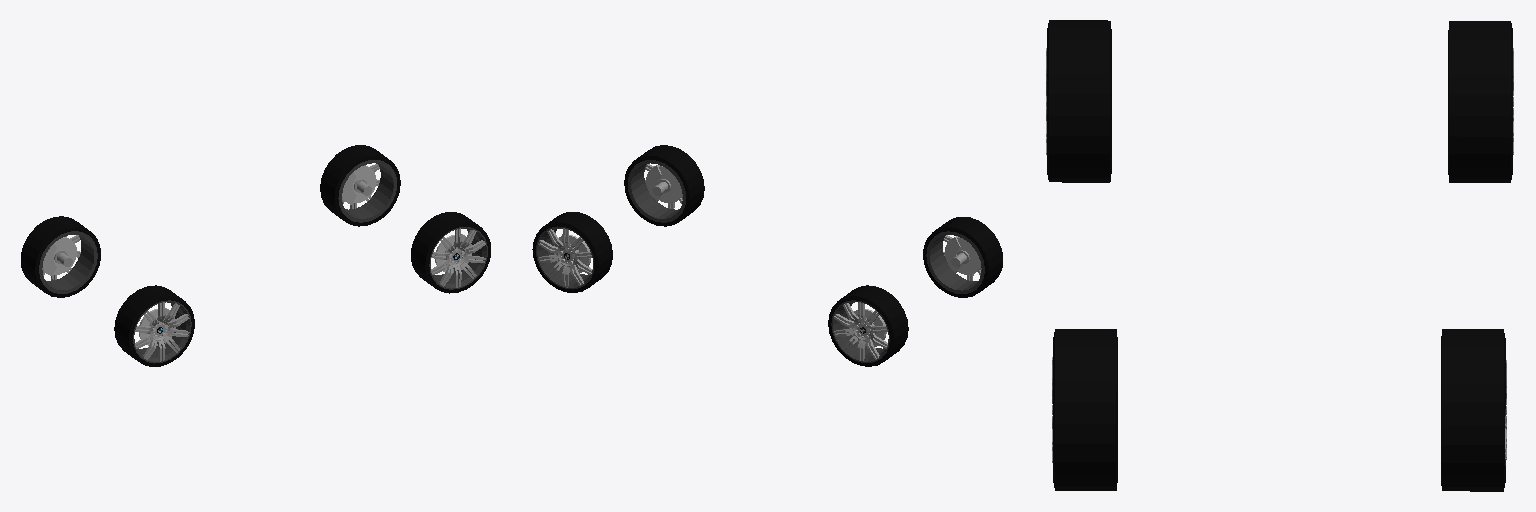
--- What the picture shows (computed from the rendered views, not written in the file) ---
The picture shows the robot from 3 angles, left to right: view 1: azimuth 30°, elevation 25°; view 2: azimuth 150°, elevation 25°; view 3: azimuth 270°, elevation 25°; orthographic projection.
Model bmw with 24 links and 23 joints (7 continuous, 16 fixed), rooted at base_link, posed all joints at 0.
Links seen in each view (by area): view 1: rear_right_wheel, front_left_wheel, rear_left_wheel, front_right_wheel; view 2: front_right_wheel, rear_left_wheel, front_left_wheel, rear_right_wheel; view 3: rear_right_wheel, front_left_wheel, rear_left_wheel, front_right_wheel.
Boxes of the visible links, x1,y1,x2,y2 form: rear_right_wheel: (114,285,194,366); front_left_wheel: (320,145,400,226); rear_left_wheel: (21,216,100,297); front_right_wheel: (411,212,490,293); front_right_wheel: (624,145,704,226); rear_left_wheel: (828,285,908,366); front_left_wheel: (532,212,612,292); rear_right_wheel: (923,217,1002,297); rear_right_wheel: (1046,20,1111,182); front_left_wheel: (1441,329,1506,491); rear_left_wheel: (1448,21,1513,182); front_right_wheel: (1052,329,1117,490).
Bounding box of the posed robot: 3.5 × 1.84 × 0.6375 m (x, y, z).
Meshes: 3 distinct files referenced, 4 mesh visuals loaded (1 Collada DAE); not drawn: 2 (reference not matched to a file when rendering).

robot.urdf — bmw:
<?xml version="1.0"?>
<robot xmlns:xacro="http://ros.org/wiki/xacro" name="bmw">
  <!--- Surface properties must come first? -->
  <gazebo reference="front_left_wheel">
    <mu1>0.9</mu1>
    <mu2>0.9</mu2>
    <minDepth>0.005</minDepth>
    <kp>1e8</kp>
  </gazebo>
  <gazebo reference="front_right_wheel">
    <mu1>0.9</mu1>
    <mu2>0.9</mu2>
    <minDepth>0.005</minDepth>
    <kp>1e8</kp>
  </gazebo>
  <gazebo reference="rear_left_wheel">
    <mu1>0.9</mu1>
    <mu2>0.9</mu2>
    <minDepth>0.005</minDepth>
    <kp>1e8</kp>
  </gazebo>
  <gazebo reference="rear_right_wheel">
    <mu1>0.9</mu1>
    <mu2>0.9</mu2>
    <minDepth>0.005</minDepth>
    <kp>1e8</kp>
  </gazebo>

  <link name="base_link">
    <inertial>
      <mass value="1"/>
      <inertia ixx="0.001" ixy="0.0" ixz="0.0" iyy="0.001" iyz="0.0" izz="0.001"/>
    </inertial>
  </link>
  <joint name="base_link_connection" type="fixed">
    <parent link="base_link"/>
    <child link="chassis"/>
    <origin xyz="1.45 0 0" rpy="0 0 1.57"/>
    <axis xyz="1 0 0"/>
  </joint>

  <link name="chassis">
    <visual>
      <origin xyz="0 -0.10 0" rpy="0 0 0"/>
      <geometry>
        <mesh filename="package://bmw_description/meshes/chassis_gray_3ds.dae" scale="1 1 1"/>
      </geometry>
    </visual>

    <collision name="chassis">
      <origin xyz="0.0 0.05 0.625" rpy="0 0 0"/>
      <geometry>
        <box size="1.7526 2.1 0.95"/>
      </geometry>
    </collision>

    <collision name="front_bumper">
      <origin xyz="0.0 -2.0 0.458488" rpy="0.0 0 0"/>
      <geometry>
        <box size="1.337282 0.48 0.566691"/>
      </geometry>
    </collision>

    <collision name="hood">
      <origin xyz="0.0 -1.900842 0.676305" rpy="0.341247 0 0"/>
      <geometry>
        <box size="1.597968 0.493107 0.265468"/>
      </geometry>
    </collision>

    <collision name="windshield">
      <origin xyz="0.0 -0.875105 1.032268" rpy="0.335476 0 0"/>
      <geometry>
        <box size="1.168381 1.654253 0.272347"/>
      </geometry>
    </collision>

    <collision name="top_front">
      <origin xyz="0.0 0.161236 1.386042" rpy="0.135030 0 0"/>
      <geometry>
        <box size="1.279154 0.625988 0.171868"/>
      </geometry>
    </collision>

    <collision name="top_rear">
      <origin xyz="0.0 0.817696 1.360069" rpy="-0.068997 0 0"/>
      <geometry>
        <box size="1.285130 0.771189 0.226557"/>
      </geometry>
    </collision>

    <collision name="rear_window">
      <origin xyz="0.0 1.640531 1.175126" rpy="-0.262017 0 0"/>
      <geometry>
        <box size="1.267845 1.116344 0.244286"/>
      </geometry>
    </collision>

    <collision name="trunk">
      <origin xyz="0.0 1.637059 0.888180" rpy="0.0 0 0"/>
      <geometry>
        <box size="1.788064 1.138988 0.482746"/>
      </geometry>
    </collision>

    <collision name="back_bumper">
      <origin xyz="0.0 2.054454 0.577870" rpy="0.0 0 0"/>
      <geometry>
        <box size="1.781650 0.512093 0.581427"/>
      </geometry>
    </collision>

    <inertial>
      <mass value="1356.0"/>
      <origin xyz="0 0 0.48" rpy="0 0 1.5708"/>
      <inertia ixx="2581.13354740" ixy="0.0" ixz="0.0" iyy="591.30846112" iyz="0.0" izz="2681.95008628"/>
    </inertial>
  </link>
  <link name="fl_axle">
    <inertial>
      <mass value="1"/>
      <origin xyz="0 0 0"/>
      <inertia ixx="0.004" ixy="0.0" ixz="0.0" iyy="0.004" iyz="0.0" izz="0.004"/>
    </inertial>
  </link>
  <link name="fr_axle">
    <inertial>
      <mass value="1"/>
      <origin xyz="0 0 0"/>
      <inertia ixx="0.004" ixy="0.0" ixz="0.0" iyy="0.004" iyz="0.0" izz="0.004"/>
    </inertial>
  </link>
  <link name="front_left_wheel">
    <inertial>
      <mass value="11"/>
      <origin xyz="0 0 0"/>
      <inertia ixx="0.58631238" ixy="0.0" ixz="0.0" iyy="0.33552910" iyz="0.0" izz="0.33552910"/>
    </inertial>
    <collision name="front_left_wheel_collision">
      <geometry>
        <sphere radius="0.33"/>
      </geometry>
    </collision>
    <visual>
      <origin xyz="0 0.205 -0.38" rpy="0 0 3.141"/>
      <geometry>
        <mesh filename="package://bmw_description/meshes/right_rear_gray.dae" scale="1 1 1"/>
      </geometry>
    </visual>
  </link>
  <link name="front_right_wheel">
    <inertial>
      <mass value="11"/>
      <origin xyz="0 0 0"/>
      <inertia ixx="0.58631238" ixy="0.0" ixz="0.0" iyy="0.33552910" iyz="0.0" izz="0.33552910"/>
    </inertial>
    <collision name="front_right_wheel_collision">
      <geometry>
        <sphere radius="0.33"/>
      </geometry>
    </collision>
    <visual>
      <origin xyz="0 -0.205 -0.38" rpy="0 0 0"/>
      <geometry>
        <mesh filename="package://bmw_description/meshes/right_rear_gray.dae" scale="1 1 1"/>
      </geometry>
    </visual>
  </link>
  <link name="rear_left_wheel">
    <inertial>
      <mass value="11"/>
      <origin xyz="0 0 0"/>
      <inertia ixx="0.58631238" ixy="0.0" ixz="0.0" iyy="0.33552910" iyz="0.0" izz="0.33552910"/>
    </inertial>
    <collision name="rear_left_wheel_collision">
      <geometry>
        <sphere radius="0.33"/>
      </geometry>
    </collision>
    <visual>
      <origin xyz="0 0.205 -0.38" rpy="0 0 3.141"/>
      <geometry>
        <mesh filename="package://bmw_description/meshes/right_rear_gray.dae" scale="1 1 1"/>
      </geometry>
    </visual>
  </link>
  <link name="rear_right_wheel">
    <inertial>
      <mass value="11"/>
      <origin xyz="0 0 0"/>
      <inertia ixx="0.58631238" ixy="0.0" ixz="0.0" iyy="0.33552910" iyz="0.0" izz="0.33552910"/>
    </inertial>
    <collision name="rear_right_wheel_collision">
      <geometry>
        <sphere radius="0.33"/>
      </geometry>
    </collision>
    <visual>
      <origin xyz="0 -0.205 -0.38" rpy="0 0 0"/>
      <geometry>
        <mesh filename="package://bmw_description/meshes/right_rear_gray.dae" scale="1 1 1"/>
      </geometry>
    </visual>
  </link>
  <link name="steering_wheel">
    <inertial>
      <mass value="1.0"/>
      <inertia ixx="0.14583300" ixy="0.0" ixz="0.0" iyy="0.14583300" iyz="0.0" izz="0.125"/>
    </inertial>
    <visual>
      <origin xyz="0 0 0" rpy="1.302101 0 0"/>
      <geometry>
        <mesh filename="package://prius_description/meshes/steering_wheel.obj" scale="0.01 0.01 0.01"/>
      </geometry>
    </visual>
  </link>

  <joint name="steering_joint" type="continuous">
    <origin xyz="0.4 -0.27 0.72" rpy="-1.302101 0 0"/>
    <parent link="chassis"/>
    <child link="steering_wheel"/>
    <axis xyz="0 0 1"/>
    <limit lower="-7.85" upper="7.85" effort="10000000" velocity="1000000"/>
  </joint>

  <joint name="front_left_steer_joint" type="continuous">
    <parent link="chassis"/>
    <child link="fl_axle"/>
    <origin xyz="0.767 -1.41 0.2" rpy="0 0 0"/>
    <axis xyz="0 0 1"/>
    <limit lower="-0.8727" upper="0.8727" effort="10000000" velocity="1000000"/>
  </joint>
  <joint name="front_right_steer_joint" type="continuous">
    <parent link="chassis"/>
    <child link="fr_axle"/>
    <origin xyz="-0.767 -1.41 0.2" rpy="0 0 0"/>
    <axis xyz="0 0 1"/>
    <limit lower="-0.8727" upper="0.8727" effort="10000000" velocity="1000000"/>
  </joint>
  <joint name="front_left_wheel_joint" type="continuous">
    <parent link="fl_axle"/>
    <child link="front_left_wheel"/>
    <origin xyz="0 0 0" rpy="0 0 0"/>
    <axis xyz="1 0 0"/>
  </joint>
  <joint name="front_right_wheel_joint" type="continuous">
    <parent link="fr_axle"/>
    <child link="front_right_wheel"/>
    <origin xyz="0 0 0" rpy="0 0 0"/>
    <axis xyz="1 0 0"/>
  </joint>
  <joint name="rear_left_wheel_joint" type="continuous">
    <parent link="chassis"/>
    <child link="rear_left_wheel"/>
    <origin xyz="0.793 1.45 0.2" rpy="0 0 0"/>
    <axis xyz="1 0 0"/>
  </joint>
  <joint name="rear_right_wheel_joint" type="continuous">
    <parent link="chassis"/>
    <child link="rear_right_wheel"/>
    <origin xyz="-0.793 1.45 0.2" rpy="0 0 0"/>
    <axis xyz="1 0 0"/>
  </joint>


  <!-- Sensor links and fixed joints -->
  <link name="center_laser_link">
    <inertial>
      <mass value="1"/>
      <inertia ixx="0.001" ixy="0.0" ixz="0.0" iyy="0.001" iyz="0.0" izz="0.001"/>
    </inertial>
  </link>
  <joint name="center_laser_joint" type="fixed">
    <parent link="chassis"/>
    <child link="center_laser_link"/>
    <origin xyz="0 0.4 1.8" rpy="0 0 -1.5707"/>
  </joint>

  <link name="front_left_laser_link">
    <inertial>
      <mass value="1"/>
      <inertia ixx="0.001" ixy="0.0" ixz="0.0" iyy="0.001" iyz="0.0" izz="0.001"/>
    </inertial>
  </link>
  <joint name="front_left_laser_joint" type="fixed">
    <parent link="chassis"/>
    <child link="front_left_laser_link"/>
    <origin xyz="1 -2.3 0.5" rpy="0 0.0 0"/>
  </joint>

  <link name="front_right_laser_link">
    <inertial>
      <mass value="1"/>
      <inertia ixx="0.001" ixy="0.0" ixz="0.0" iyy="0.001" iyz="0.0" izz="0.001"/>
    </inertial>
  </link>
  <joint name="front_right_laser_joint" type="fixed">
    <parent link="chassis"/>
    <child link="front_right_laser_link"/>
    <origin xyz="-1 -2.3 0.5" rpy="0 0.0 3.14"/>
  </joint>

  <gazebo reference="base_link_connection">
    <disableFixedJointLumping>true</disableFixedJointLumping>
  </gazebo>

  <link name="front_camera_link">
    <inertial>
      <mass value="1"/>
      <inertia ixx="0.001" ixy="0.0" ixz="0.0" iyy="0.001" iyz="0.0" izz="0.001"/>
    </inertial>
  </link>
  <joint name="front_camera_joint" type="fixed">
    <parent link="chassis"/>
    <child link="front_camera_link"/>
    <origin xyz="0 -0.4 1.4" rpy="0 0.05 -1.5707"/>
  </joint>

  <link name="back_camera_link">
    <inertial>
      <mass value="1"/>
      <inertia ixx="0.001" ixy="0.0" ixz="0.0" iyy="0.001" iyz="0.0" izz="0.001"/>
    </inertial>
  </link>
  <joint name="back_camera_joint" type="fixed">
    <parent link="chassis"/>
    <child link="back_camera_link"/>
    <origin xyz="0 1.45 1.4" rpy="0 0.05 1.5707"/>
  </joint>

  <link name="left_camera_link">
    <inertial>
      <mass value="1"/>
      <inertia ixx="0.001" ixy="0.0" ixz="0.0" iyy="0.001" iyz="0.0" izz="0.001"/>
    </inertial>
  </link>
  <joint name="left_camera_joint" type="fixed">
    <parent link="chassis"/>
    <child link="left_camera_link"/>
    <origin xyz="1 -0.7 1.0" rpy="0 0.05 1.0"/>
  </joint>

  <link name="right_camera_link">
    <inertial>
      <mass value="1"/>
      <inertia ixx="0.001" ixy="0.0" ixz="0.0" iyy="0.001" iyz="0.0" izz="0.001"/>
    </inertial>
  </link>
  <joint name="right_camera_joint" type="fixed">
    <parent link="chassis"/>
    <child link="right_camera_link"/>
    <origin xyz="-1 -0.7 1.0" rpy="0 0.05 2.1416"/>
  </joint>

  <link name="back_left_far_sonar_link">
    <inertial>
      <mass value="1"/>
      <inertia ixx="0.001" ixy="0.0" ixz="0.0" iyy="0.001" iyz="0.0" izz="0.001"/>
    </inertial>
  </link>
  <joint name="back_left_far_sonar_joint" type="fixed">
    <parent link="chassis"/>
    <child link="back_left_far_sonar_link"/>
    <origin xyz="0.7 2.4 0.5" rpy="0 0 1.5707"/>
  </joint>

  <link name="back_left_middle_sonar_link">
    <inertial>
      <mass value="1"/>
      <inertia ixx="0.001" ixy="0.0" ixz="0.0" iyy="0.001" iyz="0.0" izz="0.001"/>
    </inertial>
  </link>
  <joint name="back_left_middle_sonar_joint" type="fixed">
    <parent link="chassis"/>
    <child link="back_left_middle_sonar_link"/>
    <origin xyz="0.24 2.4 0.5" rpy="0 0 1.5707"/>
  </joint>

  <link name="back_right_far_sonar_link">
    <inertial>
      <mass value="1"/>
      <inertia ixx="0.001" ixy="0.0" ixz="0.0" iyy="0.001" iyz="0.0" izz="0.001"/>
    </inertial>
  </link>
  <joint name="back_right_far_sonar_joint" type="fixed">
    <parent link="chassis"/>
    <child link="back_right_far_sonar_link"/>
    <origin xyz="-0.7 2.4 0.5" rpy="0 0 1.5707"/>
  </joint>

  <link name="back_right_middle_sonar_link">
    <inertial>
      <mass value="1"/>
      <inertia ixx="0.001" ixy="0.0" ixz="0.0" iyy="0.001" iyz="0.0" izz="0.001"/>
    </inertial>
  </link>
  <joint name="back_right_middle_sonar_joint" type="fixed">
    <parent link="chassis"/>
    <child link="back_right_middle_sonar_link"/>
    <origin xyz="-0.24 2.4 0.5" rpy="0 0 1.5707"/>
  </joint>

  <link name="front_left_far_sonar_link">
    <inertial>
      <mass value="1"/>
      <inertia ixx="0.001" ixy="0.0" ixz="0.0" iyy="0.001" iyz="0.0" izz="0.001"/>
    </inertial>
  </link>
  <joint name="front_left_far_sonar_joint" type="fixed">
    <parent link="chassis"/>
    <child link="front_left_far_sonar_link"/>
    <origin xyz="0.7 -2.1 0.5" rpy="0 0 -1.5707"/>
  </joint>

  <link name="front_left_middle_sonar_link">
    <inertial>
      <mass value="1"/>
      <inertia ixx="0.001" ixy="0.0" ixz="0.0" iyy="0.001" iyz="0.0" izz="0.001"/>
    </inertial>
  </link>
  <joint name="front_left_middle_sonar_joint" type="fixed">
    <parent link="chassis"/>
    <child link="front_left_middle_sonar_link"/>
    <origin xyz="0.24 -2.3 0.5" rpy="0 0 -1.5707"/>
  </joint>

  <link name="front_right_far_sonar_link">
    <inertial>
      <mass value="1"/>
      <inertia ixx="0.001" ixy="0.0" ixz="0.0" iyy="0.001" iyz="0.0" izz="0.001"/>
    </inertial>
  </link>
  <joint name="front_right_far_sonar_joint" type="fixed">
    <parent link="chassis"/>
    <child link="front_right_far_sonar_link"/>
    <origin xyz="-0.7 -2.1 0.5" rpy="0 0 -1.5707"/>
  </joint>

  <link name="front_right_middle_sonar_link">
    <inertial>
      <mass value="1"/>
      <inertia ixx="0.001" ixy="0.0" ixz="0.0" iyy="0.001" iyz="0.0" izz="0.001"/>
    </inertial>
  </link>
  <joint name="front_right_middle_sonar_joint" type="fixed">
    <parent link="chassis"/>
    <child link="front_right_middle_sonar_link"/>
    <origin xyz="-0.24 -2.3 0.5" rpy="0 0 -1.5707"/>
  </joint>

  <gazebo>
    <plugin name="pruis_hybrid_drive" filename="libPriusHybridPlugin.so">
      <chassis>chassis</chassis>
      <front_left_wheel>front_left_wheel_joint</front_left_wheel>
      <front_right_wheel>front_right_wheel_joint</front_right_wheel>
      <front_left_wheel_steering>front_left_steer_joint</front_left_wheel_steering>
      <front_right_wheel_steering>front_right_steer_joint</front_right_wheel_steering>
      <back_left_wheel>rear_left_wheel_joint</back_left_wheel>
      <back_right_wheel>rear_right_wheel_joint</back_right_wheel>
      <steering_wheel>steering_joint</steering_wheel>
      <chassis_aero_force_gain>0.63045</chassis_aero_force_gain>
      <front_torque>859.4004393000001</front_torque>
      <back_torque>0</back_torque>
      <front_brake_torque>1031.28052716</front_brake_torque>
      <back_brake_torque>687.5203514400001</back_brake_torque>
      <max_speed>37.998337013956565</max_speed>
      <min_gas_flow>8.981854013171626e-05</min_gas_flow>
      <gas_efficiency>0.371</gas_efficiency>
      <battery_charge_watt_hours>291</battery_charge_watt_hours>
      <battery_discharge_watt_hours>214</battery_discharge_watt_hours>
      <max_steer>0.6458</max_steer>
      <flwheel_steering_p_gain>1e4</flwheel_steering_p_gain>
      <frwheel_steering_p_gain>1e4</frwheel_steering_p_gain>
      <flwheel_steering_i_gain>0</flwheel_steering_i_gain>
      <frwheel_steering_i_gain>0</frwheel_steering_i_gain>
      <flwheel_steering_d_gain>3e2</flwheel_steering_d_gain>
      <frwheel_steering_d_gain>3e2</frwheel_steering_d_gain>
    </plugin>
  </gazebo>

  <gazebo>
    <plugin name="joint_state_publisher" filename="libgazebo_ros_joint_state_publisher.so">
      <!-- <robotNamespace>/prius</robotNamespace> -->
      <jointName>rear_right_wheel_joint, rear_left_wheel_joint, front_right_wheel_joint, front_left_wheel_joint, front_right_steer_joint, front_left_steer_joint, steering_joint</jointName>
      <updateRate>100.0</updateRate>
      <alwaysOn>true</alwaysOn>
    </plugin>
  </gazebo>

  <gazebo>
    <plugin name="p3d" filename="libgazebo_ros_p3d.so">
      <!-- <robotNamespace>/prius</robotNamespace> -->
      <bodyName>base_link</bodyName>
      <topicName>base_pose_ground_truth</topicName>
      <frameName>map</frameName>
      <updateRate>100.0</updateRate>
    </plugin>
  </gazebo>

  <gazebo reference="center_laser_link">
    <sensor name='center_laser_sensor' type='ray'>
      <ray>
        <scan>
          <horizontal>
            <samples>512</samples>
            <resolution>1</resolution>
            <min_angle>-3.14</min_angle>
            <max_angle>3.14</max_angle>
          </horizontal>
          <vertical>
            <samples>16</samples>
            <min_angle>0.0</min_angle>   <!--let it see further in front-->
            <max_angle>-0.35</max_angle>
          </vertical>
        </scan>
        <range>
          <min>0.2</min>
          <max>50</max>
          <resolution>0.01</resolution>
        </range>
      </ray>
      <plugin name='center_laser' filename='libgazebo_ros_block_laser.so'>
        <topicName>/prius/center_laser/scan</topicName>
        <frameName>center_laser_link</frameName>
      </plugin>
      <always_on>1</always_on>
      <update_rate>30</update_rate>
      <visualize>0</visualize>
    </sensor>
  </gazebo>

  <gazebo reference="front_left_laser_link">
    <sensor name='front_left_laser_sensor' type='ray'>
      <ray>
        <scan>
          <horizontal>
            <samples>640</samples>
            <resolution>1</resolution>
            <min_angle>-2.26889</min_angle>
            <max_angle>2.2689</max_angle>
          </horizontal>
          <vertical>
            <samples>1</samples>
            <min_angle>0</min_angle>
            <max_angle>0</max_angle>
          </vertical>
        </scan>
        <range>
          <min>0.2</min>
          <max>30</max>
          <resolution>0.01</resolution>
        </range>
      </ray>
      <plugin name='front_left_laser' filename='libgazebo_ros_laser.so'>
        <topicName>/prius/front_left_laser/scan</topicName>
        <frameName>front_left_laser_link</frameName>
      </plugin>
      <always_on>1</always_on>
      <update_rate>30</update_rate>
      <visualize>0</visualize>
    </sensor>
  </gazebo>

  <gazebo reference="front_right_laser_link">
    <sensor name='front_right_laser_sensor' type='ray'>
      <ray>
        <scan>
          <horizontal>
            <samples>640</samples>
            <resolution>1</resolution>
            <min_angle>-2.26889</min_angle>
            <max_angle>2.2689</max_angle>
          </horizontal>
          <vertical>
            <samples>1</samples>
            <min_angle>0</min_angle>
            <max_angle>0</max_angle>
          </vertical>
        </scan>
        <range>
          <min>0.2</min>
          <max>30</max>
          <resolution>0.01</resolution>
        </range>
      </ray>
      <plugin name='front_right_laser' filename='libgazebo_ros_laser.so'>
        <topicName>/prius/front_right_laser/scan</topicName>
        <frameName>front_right_laser_link</frameName>
      </plugin>
      <always_on>1</always_on>
      <update_rate>30</update_rate>
      <visualize>0</visualize>
    </sensor>
  </gazebo>

  <gazebo reference="front_camera_link">
    <sensor type="camera" name="front_camera_sensor">
      <update_rate>30.0</update_rate>
      <camera name="front_camera">
        <horizontal_fov>1.3962634</horizontal_fov>
        <image>
          <width>800</width>
          <height>800</height>
          <format>R8G8B8</format>
        </image>
        <clip>
          <near>0.02</near>
          <far>300</far>
        </clip>
        <noise>
          <type>gaussian</type>
          <mean>0.0</mean>
          <stddev>0.007</stddev>
        </noise>
      </camera>
      <plugin name="front_camera_controller" filename="libgazebo_ros_camera.so">
        <alwaysOn>false</alwaysOn>
        <updateRate>0.0</updateRate>
        <cameraName>/prius/front_camera</cameraName>
        <imageTopicName>image_raw</imageTopicName>
        <cameraInfoTopicName>/prius/front_camera_info</cameraInfoTopicName>
        <frameName>camera_link</frameName>
        <hackBaseline>0.07</hackBaseline>
        <distortionK1>0.0</distortionK1>
        <distortionK2>0.0</distortionK2>
        <distortionK3>0.0</distortionK3>
        <distortionT1>0.0</distortionT1>
        <distortionT2>0.0</distortionT2>
      </plugin>
    </sensor>
  </gazebo>

  <gazebo reference="back_camera_link">
    <sensor type="camera" name="back_camera_sensor">
      <update_rate>30.0</update_rate>
      <camera name="back_camera">
        <horizontal_fov>1.3962634</horizontal_fov>
        <image>
          <width>800</width>
          <height>800</height>
          <format>R8G8B8</format>
        </image>
        <clip>
          <near>0.02</near>
          <far>300</far>
        </clip>
        <noise>
          <type>gaussian</type>
          <mean>0.0</mean>
          <stddev>0.007</stddev>
        </noise>
      </camera>
      <plugin name="back_camera_controller" filename="libgazebo_ros_camera.so">
        <alwaysOn>false</alwaysOn>
        <updateRate>0.0</updateRate>
        <cameraName>/prius/back_camera</cameraName>
        <imageTopicName>image_raw</imageTopicName>
        <cameraInfoTopicName>/prius/back_camera_info</cameraInfoTopicName>
        <frameName>camera_link</frameName>
        <hackBaseline>0.07</hackBaseline>
        <distortionK1>0.0</distortionK1>
        <distortionK2>0.0</distortionK2>
        <distortionK3>0.0</distortionK3>
        <distortionT1>0.0</distortionT1>
        <distortionT2>0.0</distortionT2>
      </plugin>
    </sensor>
  </gazebo>

  <gazebo reference="left_camera_link">
    <sensor type="camera" name="left_camera_sensor">
      <update_rate>30.0</update_rate>
      <camera name="left_camera">
        <horizontal_fov>1.3962634</horizontal_fov>
        <image>
          <width>800</width>
          <height>800</height>
          <format>R8G8B8</format>
        </image>
        <clip>
          <near>0.02</near>
          <far>300</far>
        </clip>
        <noise>
          <type>gaussian</type>
          <mean>0.0</mean>
          <stddev>0.007</stddev>
        </noise>
      </camera>
      <plugin name="left_camera_controller" filename="libgazebo_ros_camera.so">
        <alwaysOn>false</alwaysOn>
        <updateRate>0.0</updateRate>
        <cameraName>/prius/left_camera</cameraName>
        <imageTopicName>image_raw</imageTopicName>
        <cameraInfoTopicName>/prius/left_camera_info</cameraInfoTopicName>
        <frameName>camera_link</frameName>
        <hackBaseline>0.07</hackBaseline>
        <distortionK1>0.0</distortionK1>
        <distortionK2>0.0</distortionK2>
        <distortionK3>0.0</distortionK3>
        <distortionT1>0.0</distortionT1>
        <distortionT2>0.0</distortionT2>
      </plugin>
    </sensor>
  </gazebo>

  <gazebo reference="right_camera_link">
    <sensor type="camera" name="right_camera_sensor">
      <update_rate>30.0</update_rate>
      <camera name="right_camera">
        <horizontal_fov>1.3962634</horizontal_fov>
        <image>
          <width>800</width>
          <height>800</height>
          <format>R8G8B8</format>
        </image>
        <clip>
          <near>0.02</near>
          <far>300</far>
        </clip>
        <noise>
          <type>gaussian</type>
          <mean>0.0</mean>
          <stddev>0.007</stddev>
        </noise>
      </camera>
      <plugin name="right_camera_controller" filename="libgazebo_ros_camera.so">
        <alwaysOn>false</alwaysOn>
        <updateRate>0.0</updateRate>
        <cameraName>/prius/right_camera</cameraName>
        <imageTopicName>image_raw</imageTopicName>
        <cameraInfoTopicName>/prius/right_camera_info</cameraInfoTopicName>
        <frameName>camera_link</frameName>
        <hackBaseline>0.07</hackBaseline>
        <distortionK1>0.0</distortionK1>
        <distortionK2>0.0</distortionK2>
        <distortionK3>0.0</distortionK3>
        <distortionT1>0.0</distortionT1>
        <distortionT2>0.0</distortionT2>
      </plugin>
    </sensor>
  </gazebo>


  <gazebo reference="back_left_far_sonar_link">
    <sensor name='back_left_far_sonar_sensor' type='ray'>
      <ray>
        <scan>
          <horizontal>
            <samples>1</samples>
            <resolution>1</resolution>
            <min_angle>0</min_angle>
            <max_angle>0</max_angle>
          </horizontal>
          <vertical>
            <samples>1</samples>
            <min_angle>0</min_angle>
            <max_angle>0</max_angle>
          </vertical>
        </scan>
        <range>
          <min>0.2</min>
          <max>5</max>
          <resolution>0.1</resolution>
        </range>
      </ray>
      <plugin name='back_left_far_sonar_sensor' filename='libgazebo_ros_range.so'>
        <topicName>/prius/back_sonar/left_far_range</topicName>
        <frameName>back_left_far_sonar_link</frameName>
      </plugin>
      <always_on>false</always_on>
      <update_rate>5</update_rate>
      <visualize>0</visualize>
    </sensor>
  </gazebo>

  <gazebo reference="back_left_middle_sonar_link">
    <sensor name='back_left_middle_sonar_sensor' type='ray'>
      <ray>
        <scan>
          <horizontal>
            <samples>1</samples>
            <resolution>1</resolution>
            <min_angle>0</min_angle>
            <max_angle>0</max_angle>
          </horizontal>
          <vertical>
            <samples>1</samples>
            <min_angle>0</min_angle>
            <max_angle>0</max_angle>
          </vertical>
        </scan>
        <range>
          <min>0.2</min>
          <max>5</max>
          <resolution>0.1</resolution>
        </range>
      </ray>
      <plugin name='back_left_middle_sonar_sensor' filename='libgazebo_ros_range.so'>
        <topicName>/prius/back_sonar/left_middle_range</topicName>
        <frameName>back_left_middle_sonar_link</frameName>
      </plugin>
      <always_on>false</always_on>
      <update_rate>5</update_rate>
      <visualize>0</visualize>
    </sensor>
  </gazebo>

  <gazebo reference="back_right_far_sonar_link">
    <sensor name='back_right_far_sonar_sensor' type='ray'>
      <ray>
        <scan>
          <horizontal>
            <samples>1</samples>
            <resolution>1</resolution>
            <min_angle>0</min_angle>
            <max_angle>0</max_angle>
          </horizontal>
          <vertical>
            <samples>1</samples>
            <min_angle>0</min_angle>
            <max_angle>0</max_angle>
          </vertical>
        </scan>
        <range>
          <min>0.2</min>
          <max>5</max>
          <resolution>0.1</resolution>
        </range>
      </ray>
      <plugin name='back_right_far_sonar_sensor' filename='libgazebo_ros_range.so'>
        <topicName>/prius/back_sonar/right_far_range</topicName>
        <frameName>back_right_far_sonar_link</frameName>
      </plugin>
      <always_on>false</always_on>
      <update_rate>5</update_rate>
      <visualize>0</visualize>
    </sensor>
  </gazebo>

  <gazebo reference="back_right_middle_sonar_link">
    <sensor name='back_right_middle_sonar_sensor' type='ray'>
      <ray>
        <scan>
          <horizontal>
            <samples>1</samples>
            <resolution>1</resolution>
            <min_angle>0</min_angle>
            <max_angle>0</max_angle>
          </horizontal>
          <vertical>
            <samples>1</samples>
            <min_angle>0</min_angle>
            <max_angle>0</max_angle>
          </vertical>
        </scan>
        <range>
          <min>0.2</min>
          <max>5</max>
          <resolution>0.1</resolution>
        </range>
      </ray>
      <plugin name='back_right_middle_sonar_sensor' filename='libgazebo_ros_range.so'>
        <topicName>/prius/back_sonar/right_middle_range</topicName>
        <frameName>back_right_middle_sonar_link</frameName>
      </plugin>
      <always_on>false</always_on>
      <update_rate>5</update_rate>
      <visualize>0</visualize>
    </sensor>
  </gazebo>

  <gazebo reference="front_left_far_sonar_link">
    <sensor name='front_left_far_sonar_sensor' type='ray'>
      <ray>
        <scan>
          <horizontal>
            <samples>1</samples>
            <resolution>1</resolution>
            <min_angle>0</min_angle>
            <max_angle>0</max_angle>
          </horizontal>
          <vertical>
            <samples>1</samples>
            <min_angle>0</min_angle>
            <max_angle>0</max_angle>
          </vertical>
        </scan>
        <range>
          <min>0.2</min>
          <max>5</max>
          <resolution>0.1</resolution>
        </range>
      </ray>
      <plugin name='front_left_far_sonar_sensor' filename='libgazebo_ros_range.so'>
        <topicName>/prius/front_sonar/left_far_range</topicName>
        <frameName>front_left_far_sonar_link</frameName>
      </plugin>
      <always_on>false</always_on>
      <update_rate>5</update_rate>
      <visualize>0</visualize>
    </sensor>
  </gazebo>

  <gazebo reference="front_left_middle_sonar_link">
    <sensor name='front_left_middle_sonar_sensor' type='ray'>
      <ray>
        <scan>
          <horizontal>
            <samples>1</samples>
            <resolution>1</resolution>
            <min_angle>0</min_angle>
            <max_angle>0</max_angle>
          </horizontal>
          <vertical>
            <samples>1</samples>
            <min_angle>0</min_angle>
            <max_angle>0</max_angle>
          </vertical>
        </scan>
        <range>
          <min>0.2</min>
          <max>5</max>
          <resolution>0.1</resolution>
        </range>
      </ray>
      <plugin name='front_left_middle_sonar_sensor' filename='libgazebo_ros_range.so'>
        <topicName>/prius/front_sonar/left_middle_range</topicName>
        <frameName>front_left_middle_sonar_link</frameName>
      </plugin>
      <always_on>false</always_on>
      <update_rate>5</update_rate>
      <visualize>0</visualize>
    </sensor>
  </gazebo>

  <gazebo reference="front_right_far_sonar_link">
    <sensor name='front_right_far_sonar_sensor' type='ray'>
      <ray>
        <scan>
          <horizontal>
            <samples>1</samples>
            <resolution>1</resolution>
            <min_angle>0</min_angle>
            <max_angle>0</max_angle>
          </horizontal>
          <vertical>
            <samples>1</samples>
            <min_angle>0</min_angle>
            <max_angle>0</max_angle>
          </vertical>
        </scan>
        <range>
          <min>0.2</min>
          <max>5</max>
          <resolution>0.1</resolution>
        </range>
      </ray>
      <plugin name='front_right_far_sonar_sensor' filename='libgazebo_ros_range.so'>
        <topicName>/prius/front_sonar/right_far_range</topicName>
        <frameName>front_right_far_sonar_link</frameName>
      </plugin>
      <always_on>false</always_on>
      <update_rate>5</update_rate>
      <visualize>0</visualize>
    </sensor>
  </gazebo>

  <gazebo reference="front_right_middle_sonar_link">
    <sensor name='front_right_middle_sonar_sensor' type='ray'>
      <ray>
        <scan>
          <horizontal>
            <samples>1</samples>
            <resolution>1</resolution>
            <min_angle>0</min_angle>
            <max_angle>0</max_angle>
          </horizontal>
          <vertical>
            <samples>1</samples>
            <min_angle>0</min_angle>
            <max_angle>0</max_angle>
          </vertical>
        </scan>
        <range>
          <min>0.2</min>
          <max>5</max>
          <resolution>0.1</resolution>
        </range>
      </ray>
      <plugin name='front_right_middle_sonar_sensor' filename='libgazebo_ros_range.so'>
        <topicName>/prius/front_sonar/right_middle_range</topicName>
        <frameName>front_right_middle_sonar_link</frameName>
      </plugin>
      <always_on>false</always_on>
      <update_rate>5</update_rate>
      <visualize>0</visualize>
    </sensor>
  </gazebo>
</robot>
